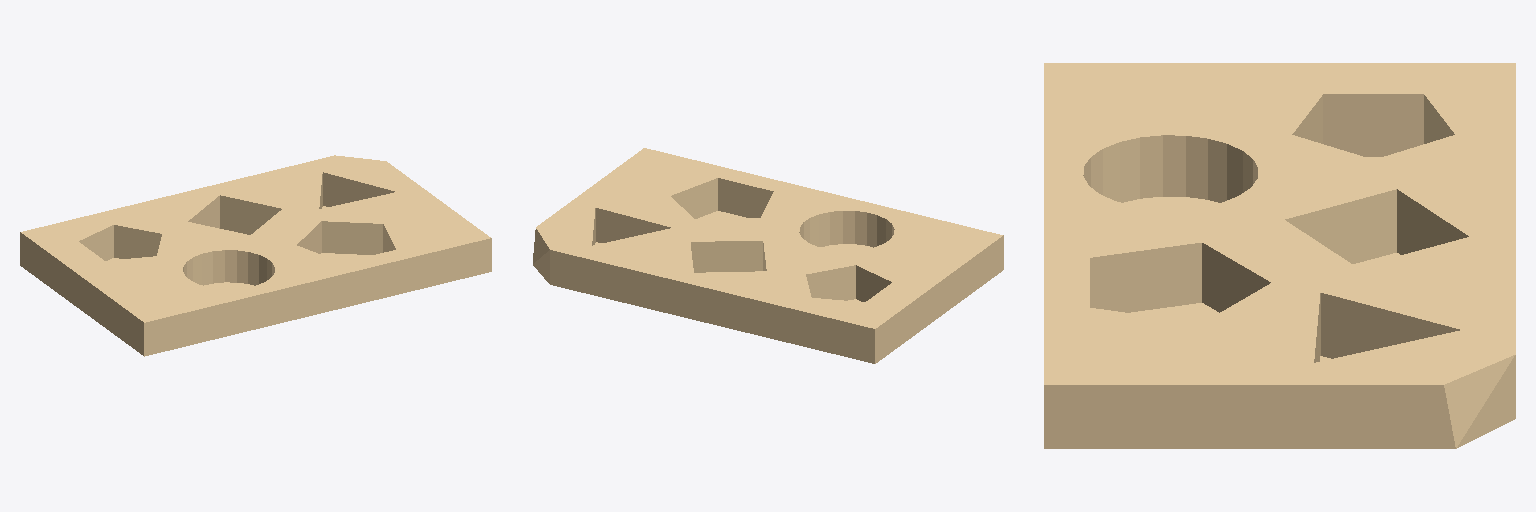
The robot description file, URDF, robot "globe":
<?xml version="1.0"?>
<robot name="globe">
  <link name ="rb1_marker">
    <visual>
      <origin xyz='0 0 0'/>
      <geometry>
        <mesh filename="puzzle_board.stl"  />
      </geometry>
			<material name="red">
        <color rgba="0.98046875 0.875 0.69921875 1"/>
  		</material>
    </visual>
    <collision>
      <origin xyz='0 0 0'/>
      <geometry>
        <mesh filename="puzzle_board.stl" />
      </geometry>
    </collision>
  </link>
</robot>

--- Facts derived from the render (not from the file) ---
The picture shows the robot from 3 angles, left to right: view 1: azimuth 30°, elevation 25°; view 2: azimuth 150°, elevation 25°; view 3: azimuth 270°, elevation 25°; orthographic projection.
Model globe with 1 links and 0 joints (none), rooted at rb1_marker, posed every joint at zero.
Links seen in each view (by area): view 1: rb1_marker; view 2: rb1_marker; view 3: rb1_marker.
Link boxes in pixels (x1,y1,x2,y2): rb1_marker: [20, 155, 491, 356]; rb1_marker: [533, 148, 1003, 363]; rb1_marker: [1044, 63, 1515, 448].
Size in the robot's own frame: 1.08 by 0.6688 by 0.1008 metres.
1 mesh visuals loaded from 1 distinct referenced files (1 binary STL).